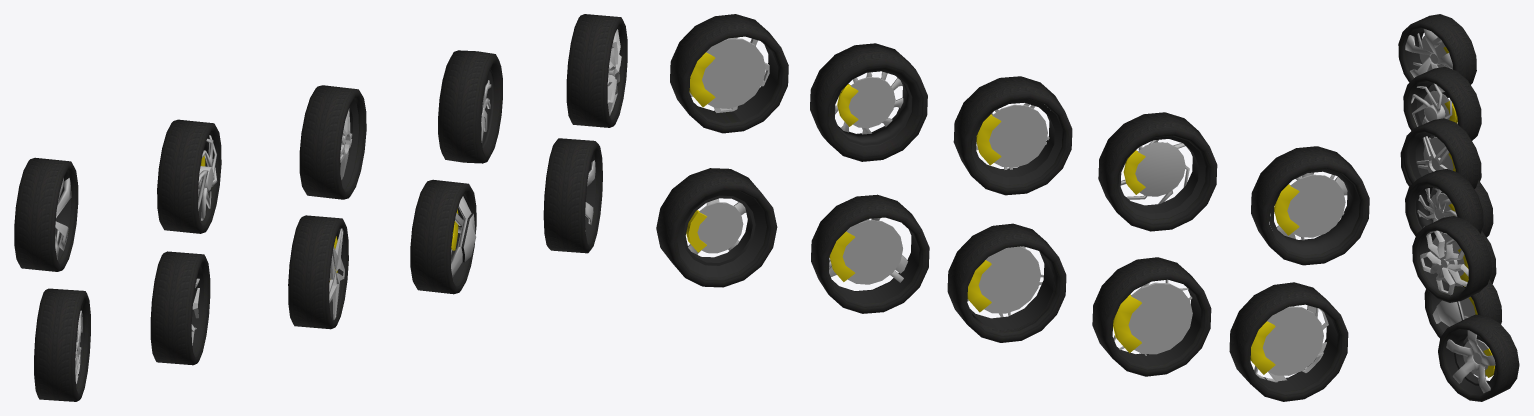
The model's file is AllTyres.glb.
3 views of the same model, side by side, from view 1: azimuth 30°, elevation 25°; view 2: azimuth 150°, elevation 25°; view 3: azimuth 270°, elevation 25° (orthographic). The views are drawn at different scales.
Visible parts, largest first — view 1: Cylinder.014, Cylinder.010, Cylinder, Cylinder.035, Cylinder.001, Cylinder.020, Cylinder.006, Cylinder.017, Cylinder.025, Cylinder.027, Cube.001, Cylinder.018 (+5 smaller); view 2: Cylinder.014, Cylinder.035, Cylinder.025, Cylinder.006, Cylinder.017, Cylinder, Cylinder.027, Cylinder.020, Cylinder.001, Cylinder.010, Cylinder.024, Cylinder.019 (+26 smaller); view 3: Cylinder.035, Cylinder, Cylinder.006, Cylinder.014, Cylinder.001, Cylinder.010, Cylinder.018, Cube.004, Cylinder.027, Cylinder.003, Cube, Cube.001 (+22 smaller).
Part boxes in pixels (x1,y1,x2,y2): Cylinder.014: (438,50,502,163); Cylinder.010: (299,85,366,199); Cylinder: (543,138,602,253); Cylinder.035: (566,14,627,127); Cylinder.001: (14,157,78,271); Cylinder.020: (150,251,210,365); Cylinder.006: (157,119,221,233); Cylinder.017: (34,288,90,401); Cylinder.025: (288,215,348,329); Cylinder.027: (410,179,476,294); Cube.001: (198,135,217,220); Cylinder.018: (607,29,621,115); Cylinder.014: (810,43,927,161); Cylinder.035: (670,14,788,133); Cylinder.025: (947,223,1066,342); Cylinder.006: (1098,112,1217,231); Cylinder.017: (1229,282,1348,401); Cylinder: (656,168,777,287); Cylinder.027: (811,194,929,313); Cylinder.020: (1092,257,1211,376); Cylinder.001: (1251,146,1369,265); Cylinder.010: (953,76,1072,195); Cylinder.024: (1128,282,1192,354); Cylinder.019: (702,38,765,108); Cylinder.035: (1412,216,1491,302); Cylinder: (1438,314,1519,401); Cylinder.006: (1403,67,1481,140); Cylinder.014: (1405,169,1483,236); Cylinder.001: (1398,14,1476,97); Cylinder.010: (1402,118,1479,198); Cylinder.018: (1420,230,1468,295); Cube.004: (1446,330,1495,393); Cylinder.027: (1424,279,1501,346); Cylinder.003: (1445,329,1496,394); Cube: (1405,29,1452,92); Cube.001: (1411,83,1457,139).
Bounding box in the file's own units: 33.06 × 11.6 × 7.24.
Materials: 5 (1 with a texture image).
